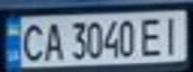0: (84, 18, 106, 60), (118, 16, 139, 58)
3: (66, 18, 87, 61)
4: (103, 17, 121, 59)
A: (39, 19, 66, 62)
C: (15, 20, 48, 63)
E: (136, 15, 166, 57)
I: (157, 12, 187, 56)
